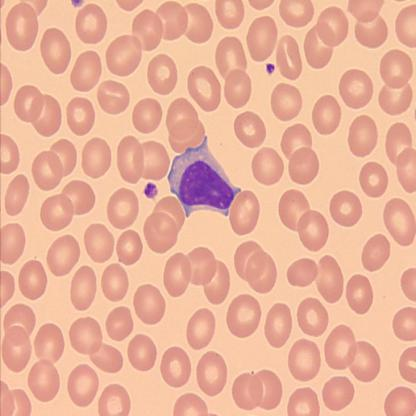Atypical lymphocyte: (168, 132, 243, 218)
